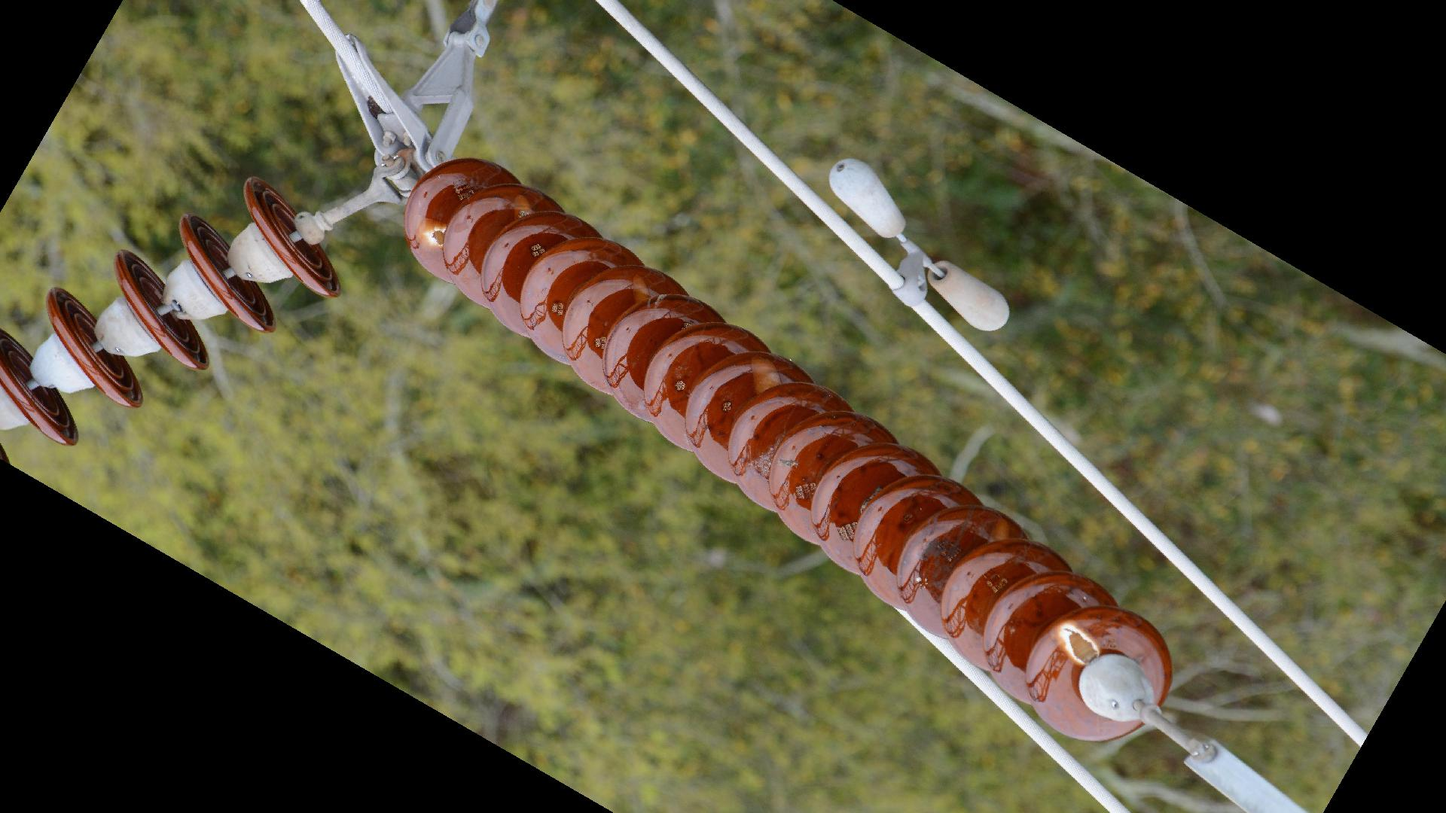insulator: (398, 152, 1179, 750), (1, 171, 347, 453)
insulator_flashover: (1054, 618, 1101, 667), (746, 354, 782, 398), (412, 218, 448, 252), (628, 272, 651, 311)
